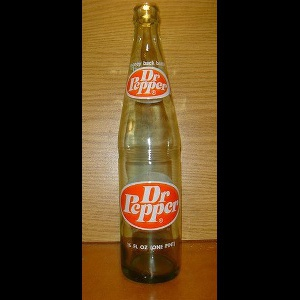emptybottle: (121, 4, 182, 284)
